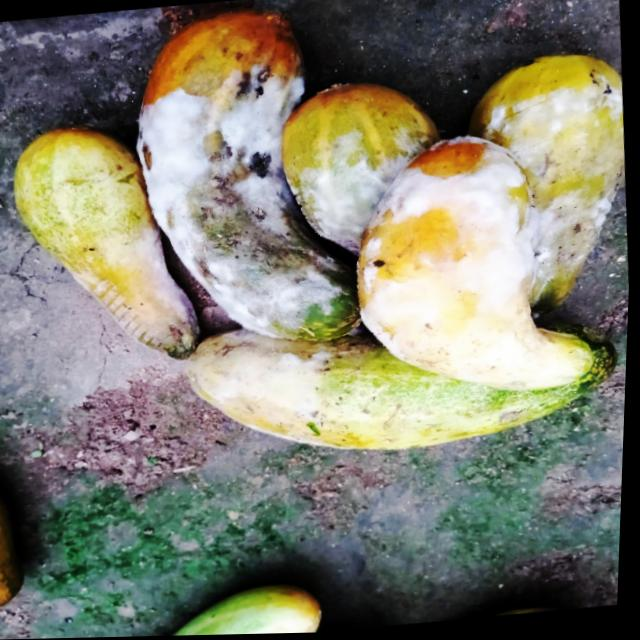Pythium-Fruit-Rot: (128, 64, 357, 351), (347, 133, 558, 380), (487, 80, 635, 299), (288, 128, 441, 263), (79, 225, 201, 365), (209, 327, 331, 461)
